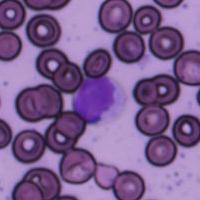L: (72, 74, 127, 125)
